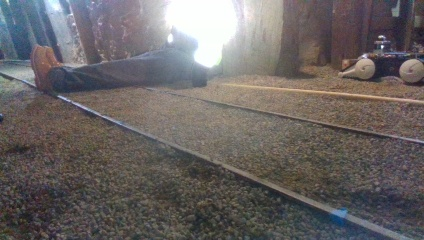manikin: (28, 0, 238, 92)
